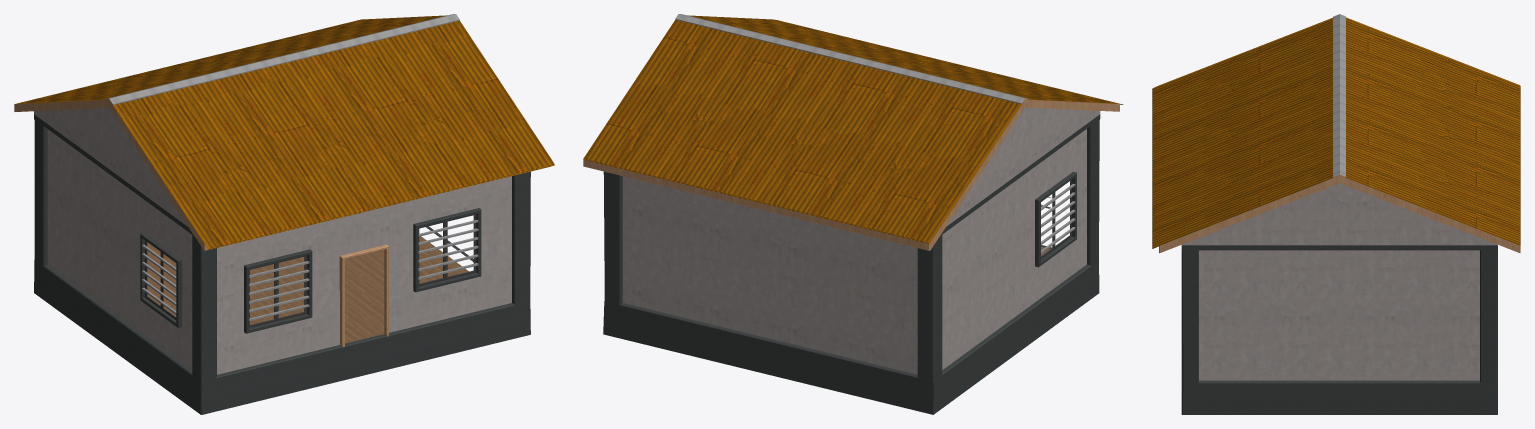
The model's file is bantaygabi-house-04.glb.
3 renders of one model, left to right at view 1: azimuth 30°, elevation 25°; view 2: azimuth 150°, elevation 25°; view 3: azimuth 270°, elevation 25°, orthographic. The views are drawn at different scales.
Visible parts, largest first — view 1: House04_LOD0; view 2: House04_LOD0; view 3: House04_LOD0.
Part boxes in pixels (bbox=[...]): House04_LOD0: bbox=[14, 14, 554, 414]; House04_LOD0: bbox=[583, 14, 1123, 414]; House04_LOD0: bbox=[1152, 14, 1520, 414].
Size of the model in its own units: 8.4 by 5.96 by 8.15.
Materials: 10 (10 with a texture image).
